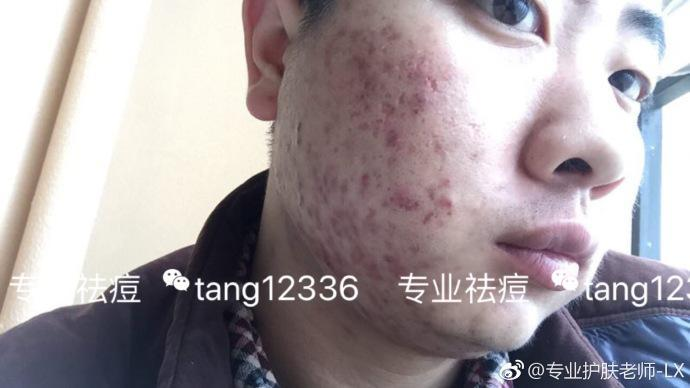fore: (302, 113, 340, 137), (326, 195, 349, 230), (307, 236, 337, 259), (356, 205, 381, 232), (377, 285, 399, 315), (436, 189, 462, 214), (415, 250, 447, 268), (414, 47, 438, 71), (352, 20, 374, 46), (353, 295, 375, 321), (436, 167, 463, 188), (382, 222, 403, 249), (370, 93, 394, 116), (375, 16, 398, 40), (465, 139, 488, 163), (381, 126, 406, 148), (309, 181, 330, 207), (461, 115, 484, 138), (377, 60, 395, 89), (356, 168, 375, 195), (338, 177, 356, 205), (396, 186, 416, 211), (327, 167, 345, 194), (383, 244, 404, 267), (404, 88, 424, 112), (465, 192, 485, 216), (396, 54, 414, 80), (303, 201, 325, 222), (383, 149, 405, 170), (349, 51, 370, 72), (335, 217, 356, 238), (355, 70, 374, 93), (362, 282, 382, 303), (305, 159, 324, 181), (291, 179, 314, 197), (418, 203, 436, 226), (399, 31, 421, 49), (404, 237, 424, 256), (417, 312, 436, 331), (424, 72, 442, 92), (276, 140, 297, 157), (379, 191, 397, 210), (362, 253, 375, 278), (434, 131, 446, 158), (433, 215, 451, 233), (355, 118, 375, 134), (327, 140, 347, 156), (397, 295, 417, 310), (347, 240, 363, 257), (343, 105, 360, 121), (424, 297, 442, 311), (356, 99, 372, 114), (326, 41, 335, 67), (330, 25, 349, 37), (293, 208, 300, 238), (293, 125, 302, 145)
